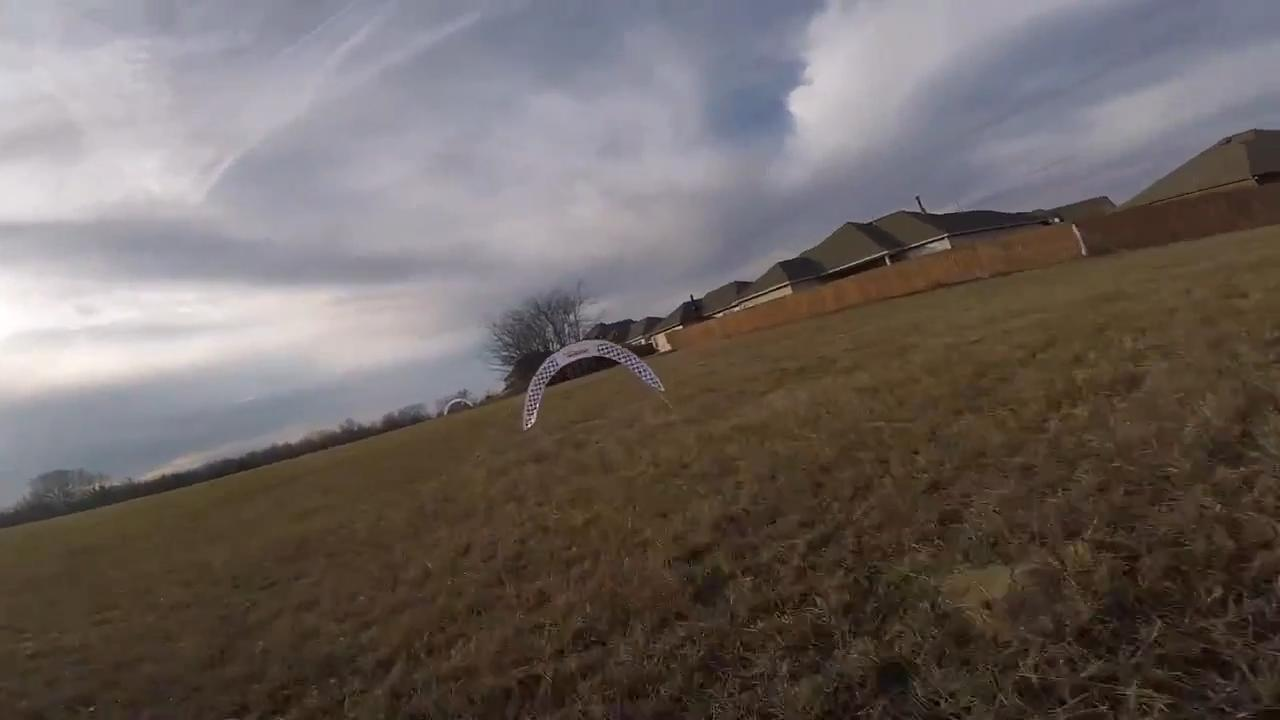gate: (519, 338, 670, 432)
